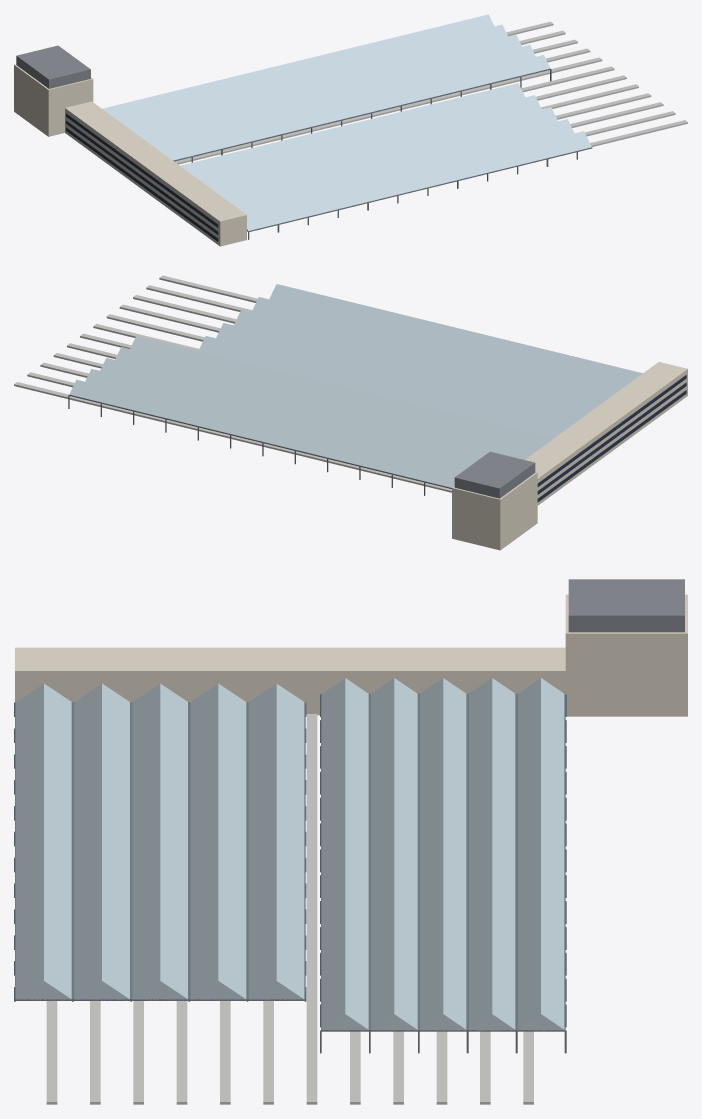
Rendered from terminal_victoria.glb.
3 renders of one model, top to bottom at view 1: azimuth 30°, elevation 25°; view 2: azimuth 150°, elevation 25°; view 3: azimuth 270°, elevation 25°, orthographic. The views are drawn at different scales.
Parts seen in each view (by area): view 1: victoria; view 2: victoria; view 3: victoria.
Boxes of the visible parts, bbox=[...] form: victoria: bbox=[14, 14, 687, 246]; victoria: bbox=[14, 275, 687, 550]; victoria: bbox=[14, 579, 687, 1104].
Size of the model in its own units: 330 by 36 by 220.
